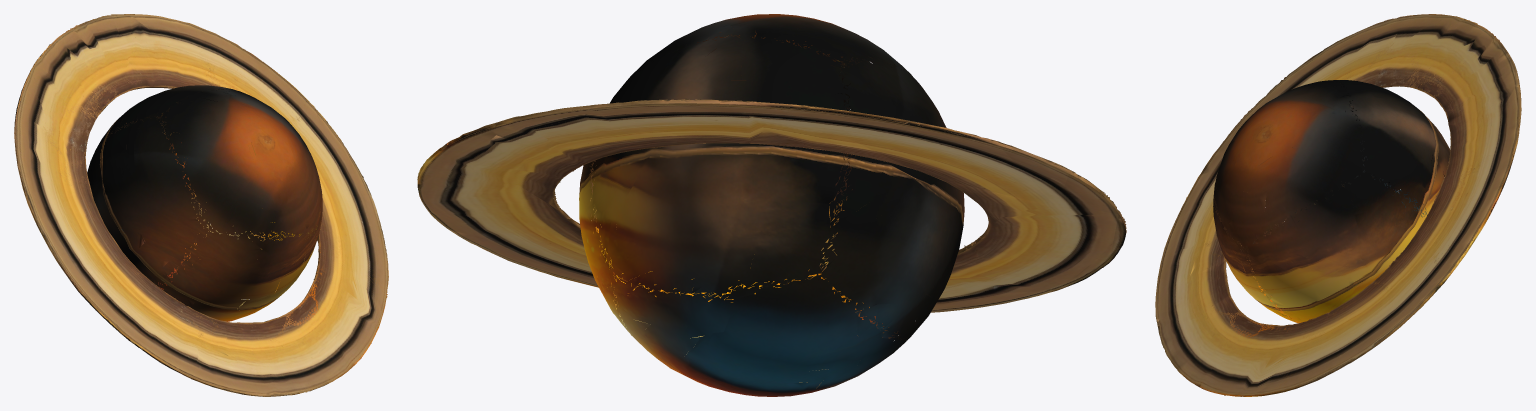
The model's file is Saturn.glb.
3 renders of one model, left to right at view 1: azimuth 30°, elevation 25°; view 2: azimuth 150°, elevation 25°; view 3: azimuth 270°, elevation 25°, orthographic. The views are drawn at different scales.
Visible parts, largest first — view 1: Mesh_0.007; view 2: Mesh_0.007; view 3: Mesh_0.007.
Boxes of the visible parts, left/top/right/bottom form: Mesh_0.007: left=14, top=14, right=388, bottom=396; Mesh_0.007: left=417, top=14, right=1126, bottom=396; Mesh_0.007: left=1155, top=14, right=1521, bottom=396.
Size of the model in its own units: 1.94 by 1.35 by 1.59.
Materials: 1 (1 with a texture image).
